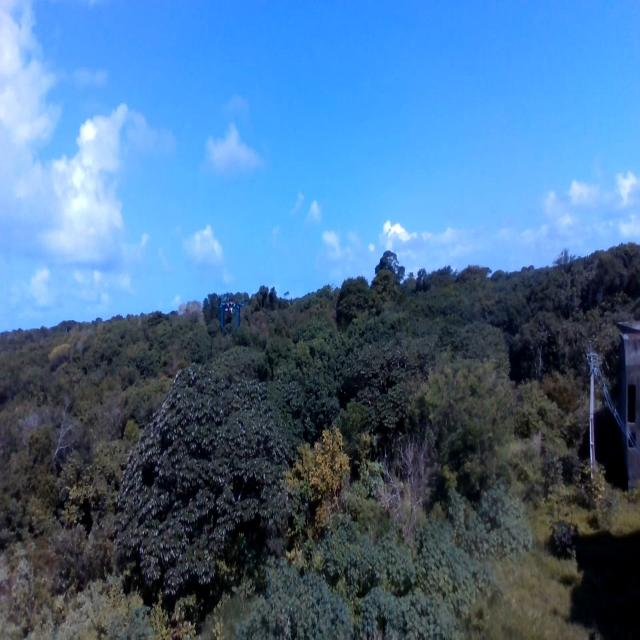-uav-: (209, 281, 249, 340)
